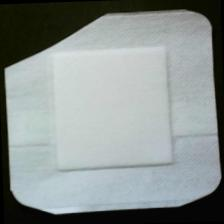Cut: (2, 5, 224, 217)
